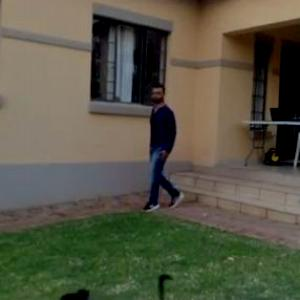follow: (140, 87, 170, 189)
